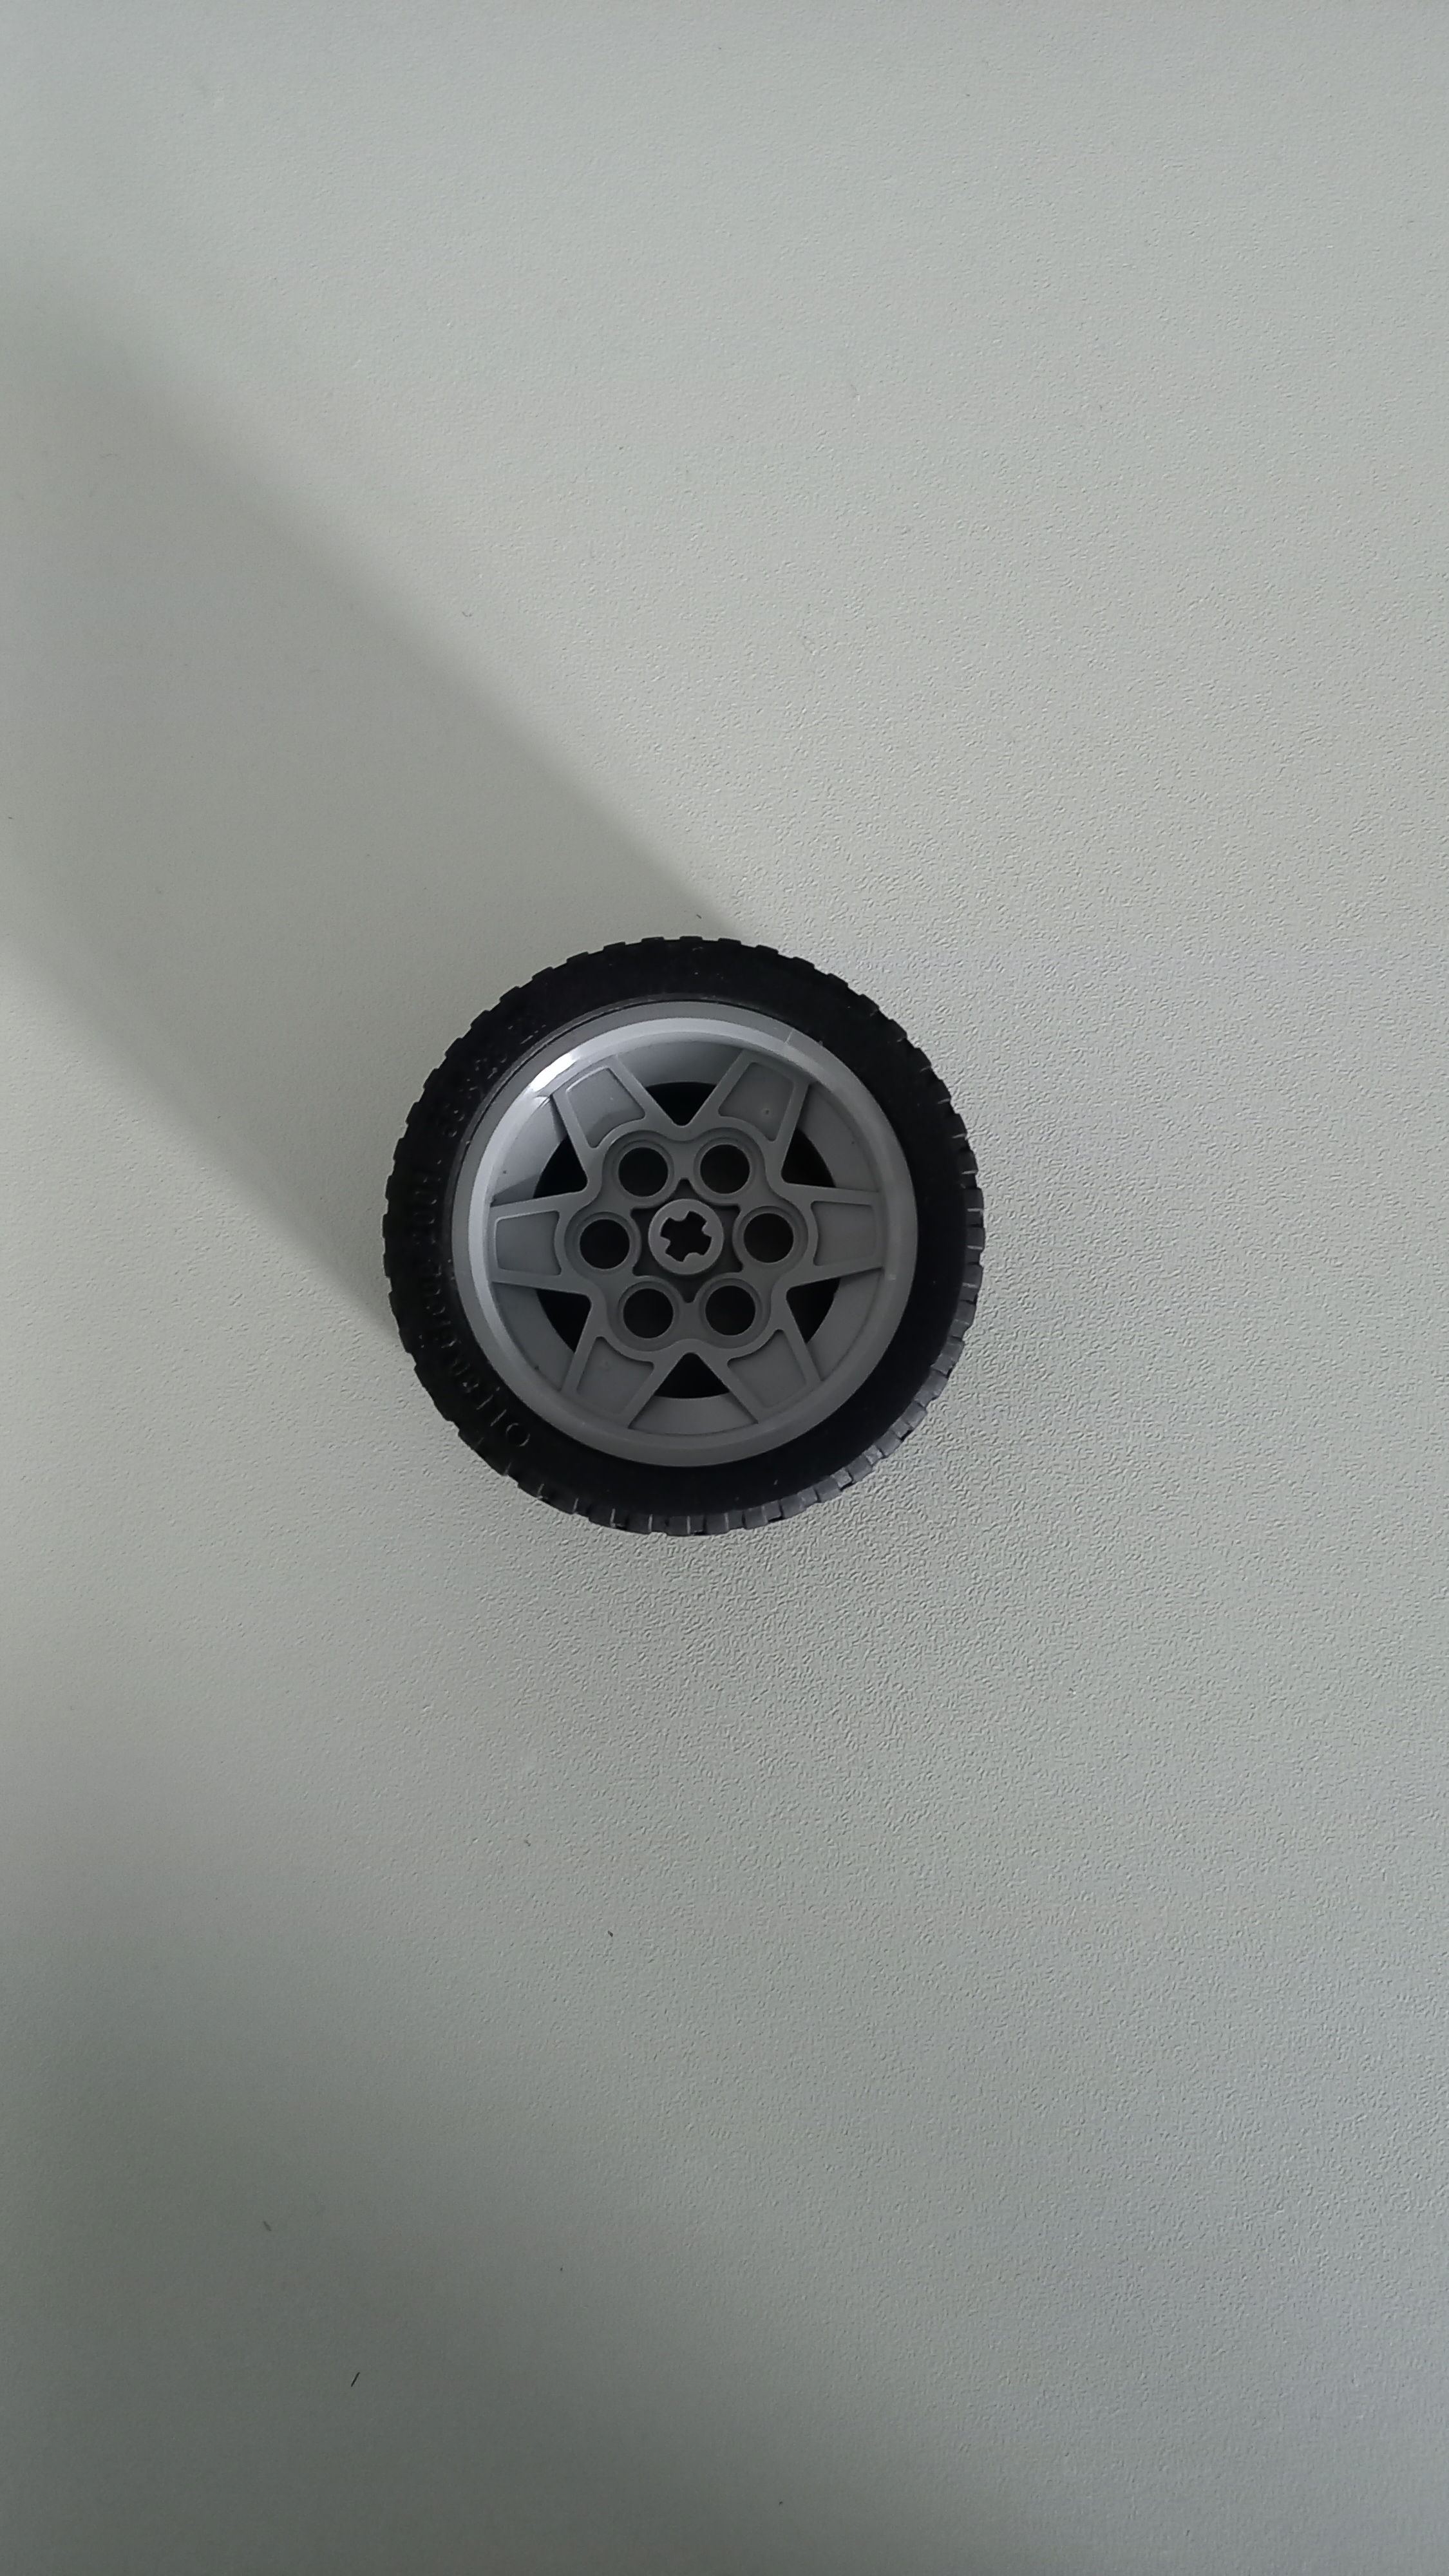Rad: (356, 902, 1016, 1562)
